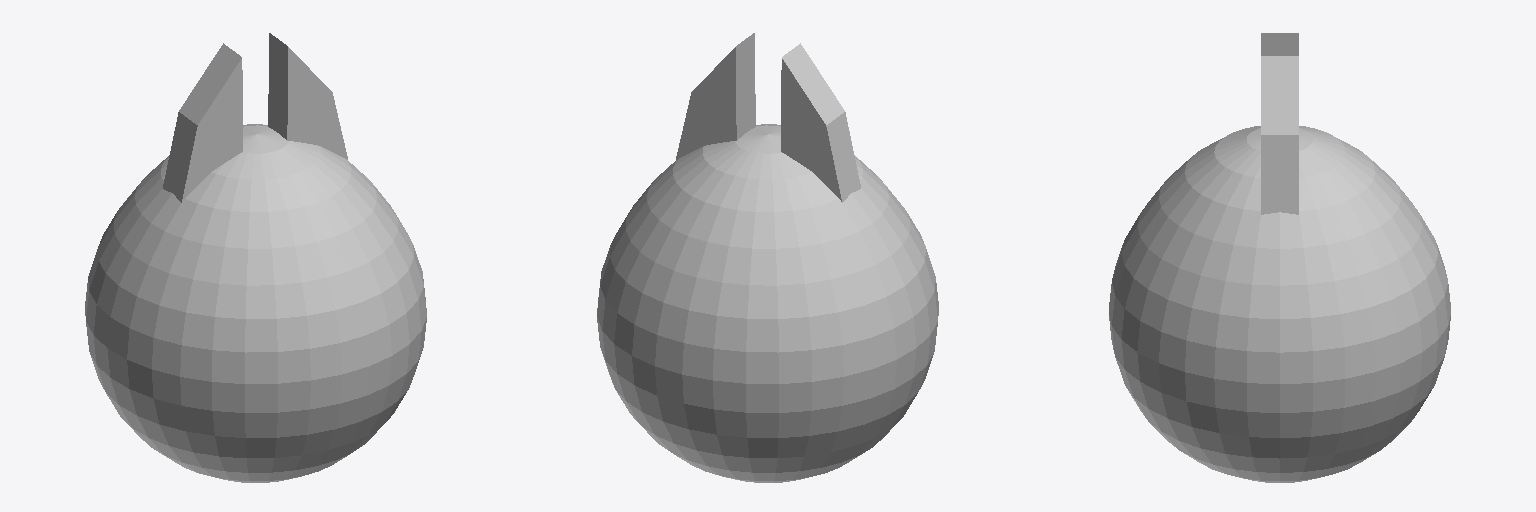
The model's file is Body.obj.
3 renders of one model, left to right at view 1: azimuth 30°, elevation 25°; view 2: azimuth 150°, elevation 25°; view 3: azimuth 270°, elevation 25°, orthographic.
Parts seen in each view (by area): view 1: E_Body; view 2: E_Body; view 3: E_Body.
Boxes of the visible parts, box(x1,y1,x2,y2) form: E_Body: box(85, 33, 426, 482); E_Body: box(597, 33, 938, 482); E_Body: box(1109, 33, 1450, 482).
Size of the model in its own units: 2 by 2.72 by 2.